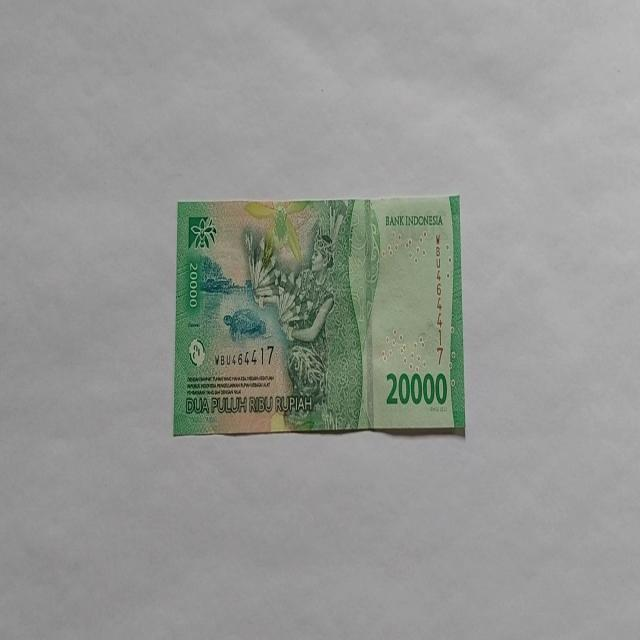dua puluh ribu rupiah: (172, 194, 466, 438)
